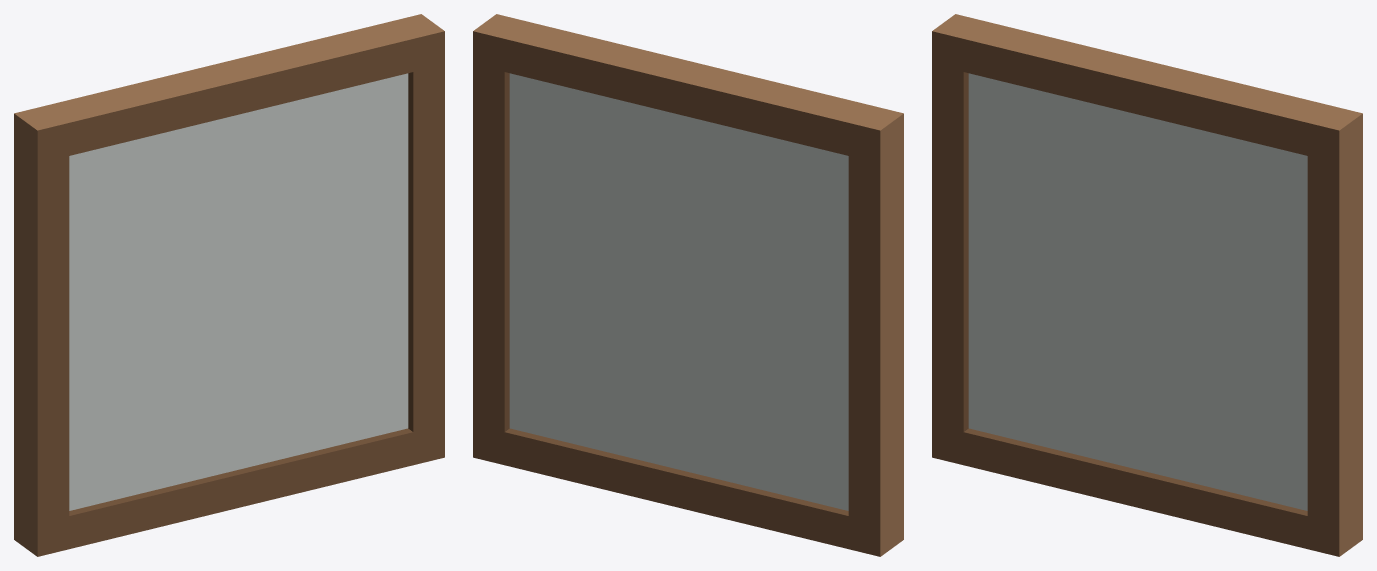
The model's file is QR_SimpleFrame.glb.
3 renders of one model, left to right at view 1: azimuth 30°, elevation 25°; view 2: azimuth 150°, elevation 25°; view 3: azimuth 330°, elevation 25°, orthographic.
Visible parts, largest first — view 1: QR_SimpleFrame; view 2: QR_SimpleFrame; view 3: QR_SimpleFrame.
Part boxes in pixels (box(x1,y1,x2,y2)): QR_SimpleFrame: box(14, 14, 444, 556); QR_SimpleFrame: box(473, 14, 903, 556); QR_SimpleFrame: box(932, 14, 1362, 556).
Size of what is drawn, in the model's own units: 0.7153 by 0.7153 by 0.0715.
1 material, 1 textured.
